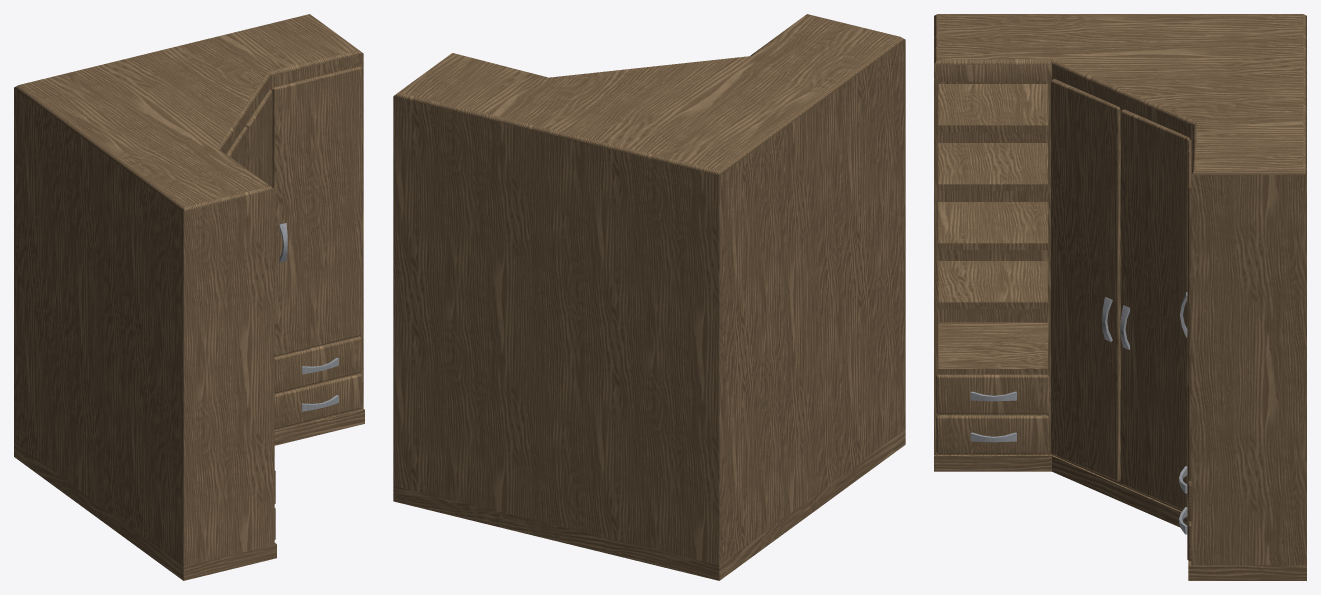
Rendered from wall cabinet_002.fbx.
3 views of the same model, side by side, from view 1: azimuth 30°, elevation 25°; view 2: azimuth 150°, elevation 25°; view 3: azimuth 270°, elevation 25° (orthographic). The views are drawn at different scales.
Parts seen in each view (by area): view 1: wall cabinet_002; view 2: wall cabinet_002; view 3: wall cabinet_002.
Part boxes in pixels (x1,y1,x2,y2): wall cabinet_002: (14,14,364,580); wall cabinet_002: (393,14,905,580); wall cabinet_002: (934,14,1306,580).
Bounding box in the file's own units: 233 × 230 × 279.
